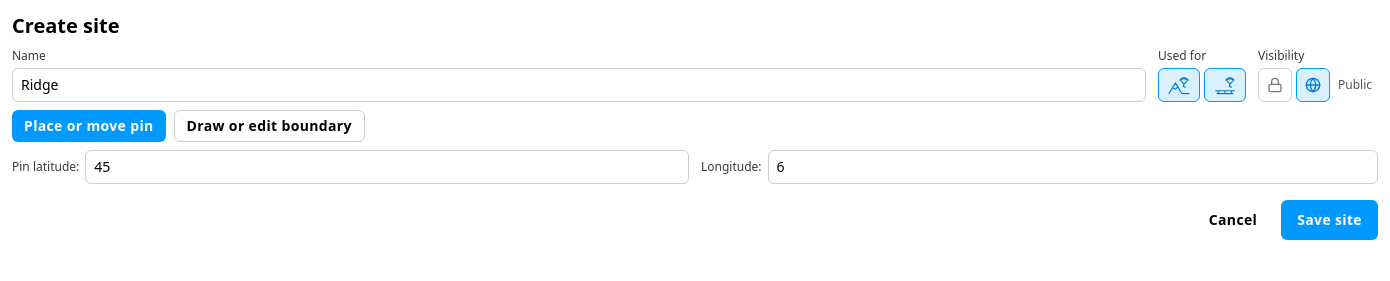
explains a visibility restriction only when the pilot tries changing it
The width and height of the screenshot is (1390, 281).
Expected: the text "Only the site owner can change visibility." is not shown
Click the button named "Private".
click(1275, 85)  # box [1258,68,1292,102]
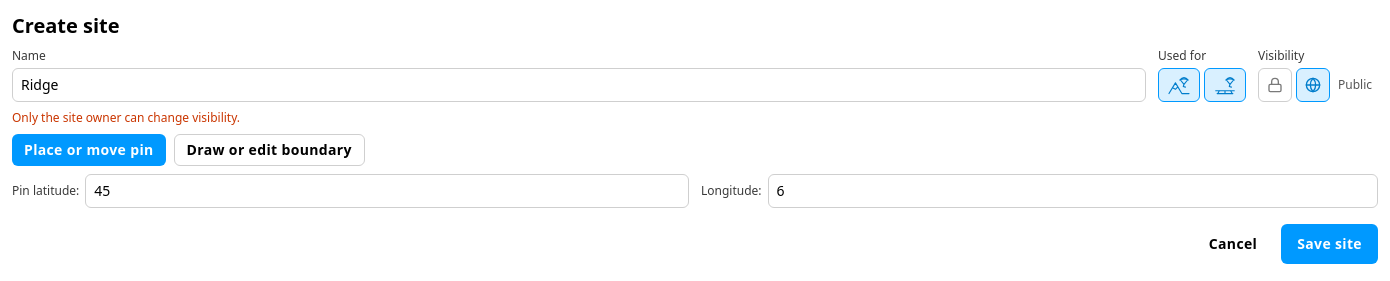
Expected: the message reads "Only the site owner can change visibility.", [12,109,240,126]
